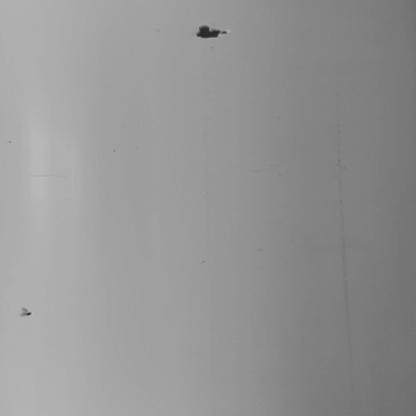kongdong: (12, 305, 52, 335), (188, 22, 242, 44)
